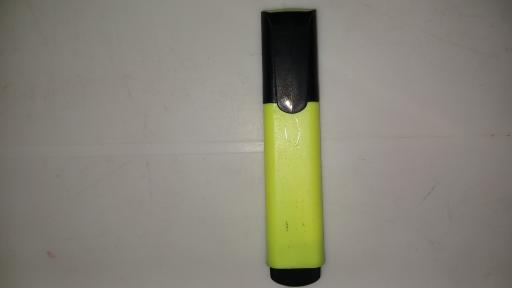Highlighter: (264, 8, 322, 287)
